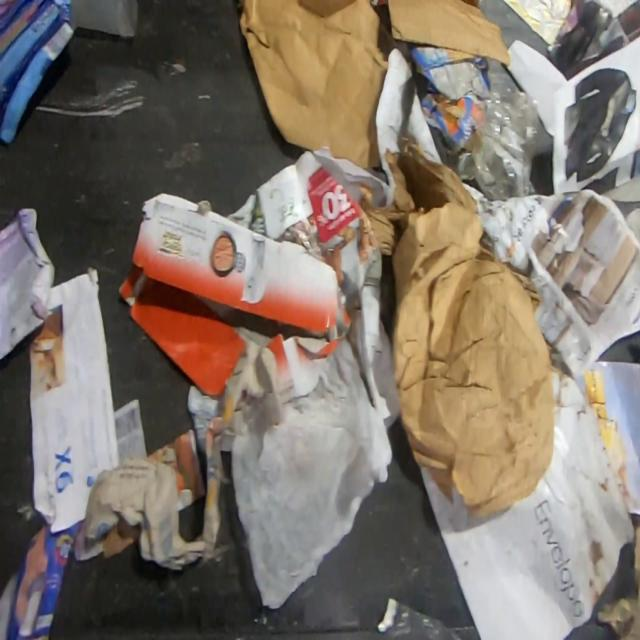cardboard: (114, 190, 352, 398), (237, 0, 395, 167), (405, 42, 488, 169), (0, 205, 56, 362), (386, 0, 511, 65)
soft_plastic: (452, 68, 554, 201), (375, 594, 462, 640)
